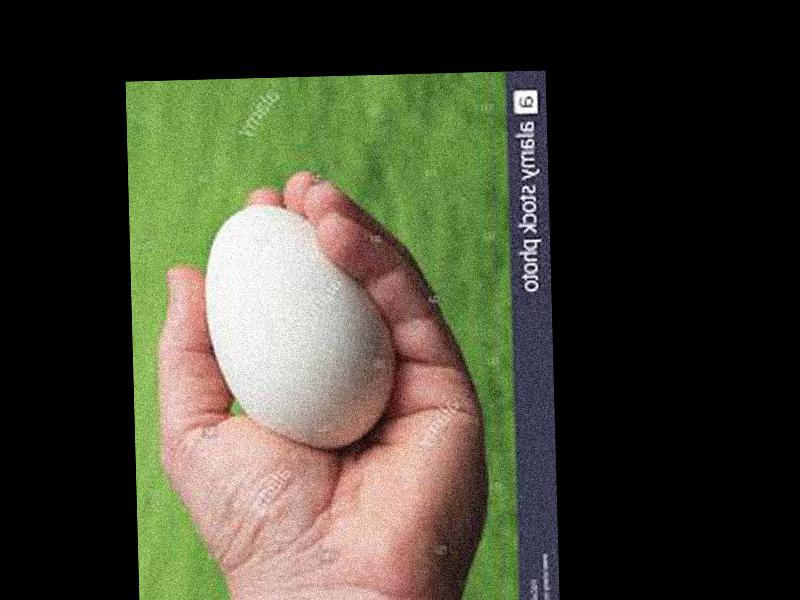Eggs: (201, 203, 398, 456)
